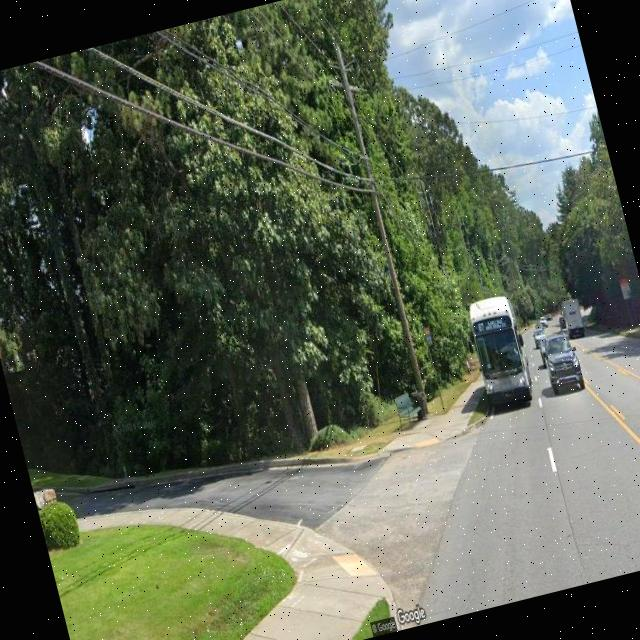seating: (391, 390, 426, 432)
trash_can: (412, 389, 428, 418)
